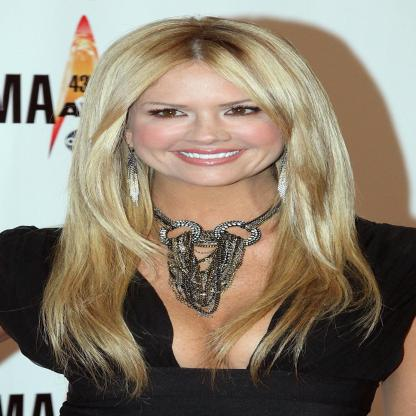long-hair: (38, 186, 369, 228)
